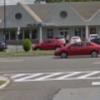crosswalks: (11, 70, 100, 80)
